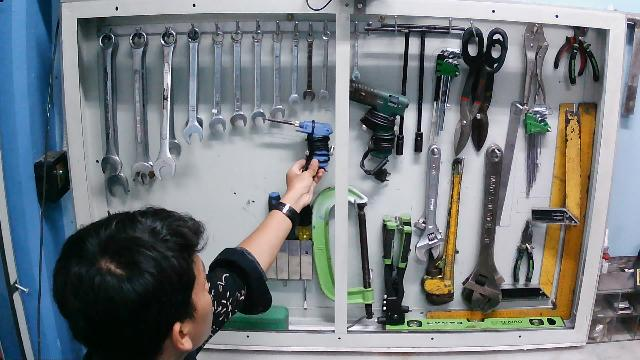solder_electrical: (262, 114, 334, 174)
